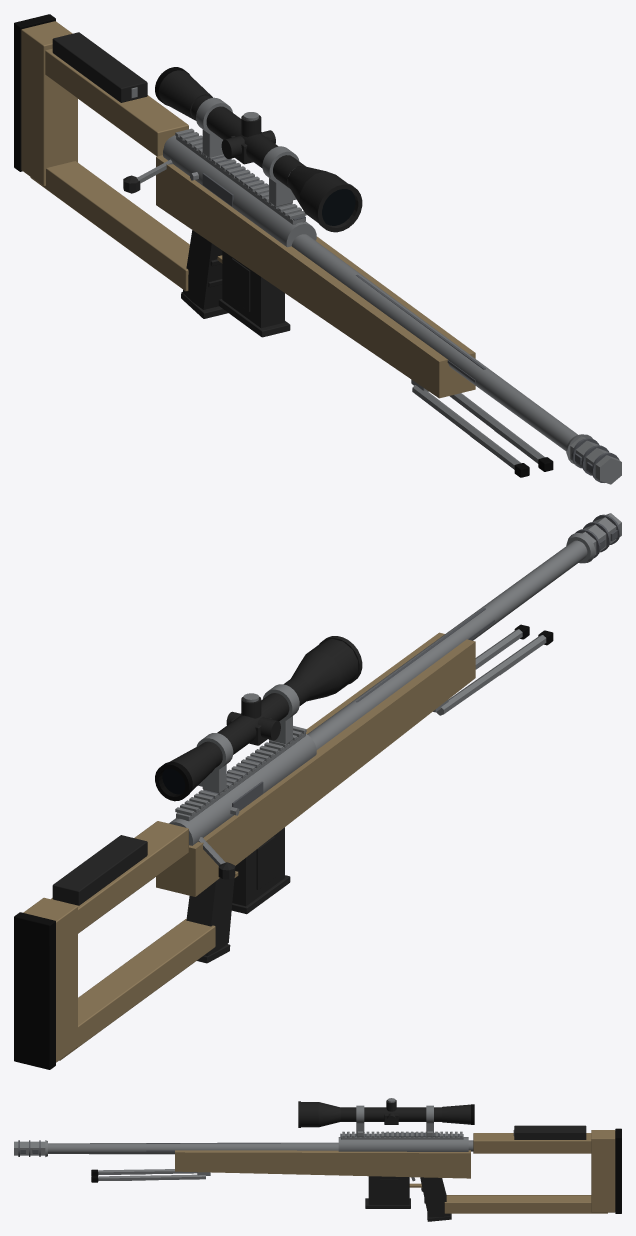
Rendered from Jng90.obj.
3 renders of one model, top to bottom at view 1: azimuth 30°, elevation 25°; view 2: azimuth 150°, elevation 25°; view 3: azimuth 270°, elevation 25°, orthographic. The views are drawn at different scales.
Parts seen in each view (by area): view 1: Body, Magazine; view 2: Body, Magazine; view 3: Body, Magazine.
Part boxes in pixels (box(x1,y1,x2,y2)): Body: box(14, 14, 621, 484); Magazine: box(218, 250, 290, 337); Body: box(14, 513, 621, 1069); Magazine: box(231, 827, 290, 914); Body: box(14, 1098, 621, 1221); Magazine: box(365, 1176, 410, 1208).
Bounding box in the file's own units: 0.0974 × 0.2724 × 1.26.
